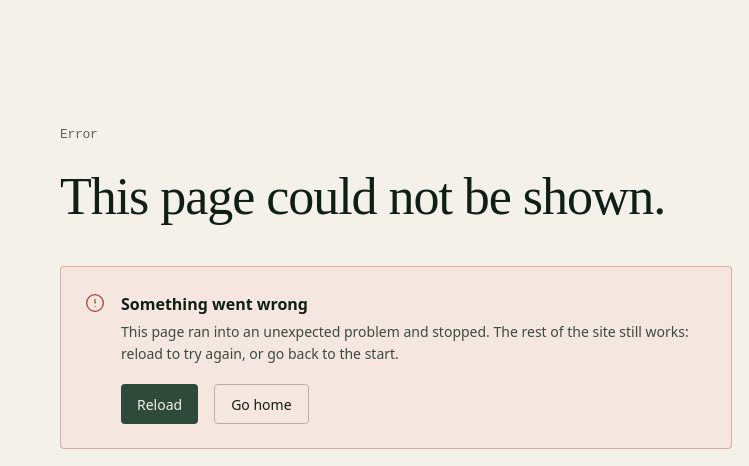
Test: RouteErrorPage › replaces a crashed page with a calm error state, Reload and Go home
Expected: the message shows "unexpected problem", left=121, top=322, right=689, bottom=363
Expected: the button "Reload" is shown, left=121, top=384, right=198, bottom=424
What coordinates should you click on to do the following:
click the link "Go home"
I would click on:
 (261, 404)
Its box is left=214, top=384, right=309, bottom=424.
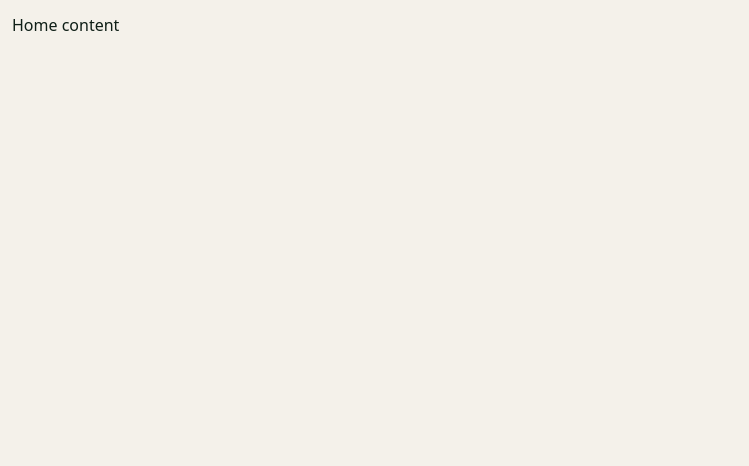
Expected: the text "Home content" is shown, left=12, top=14, right=119, bottom=36
